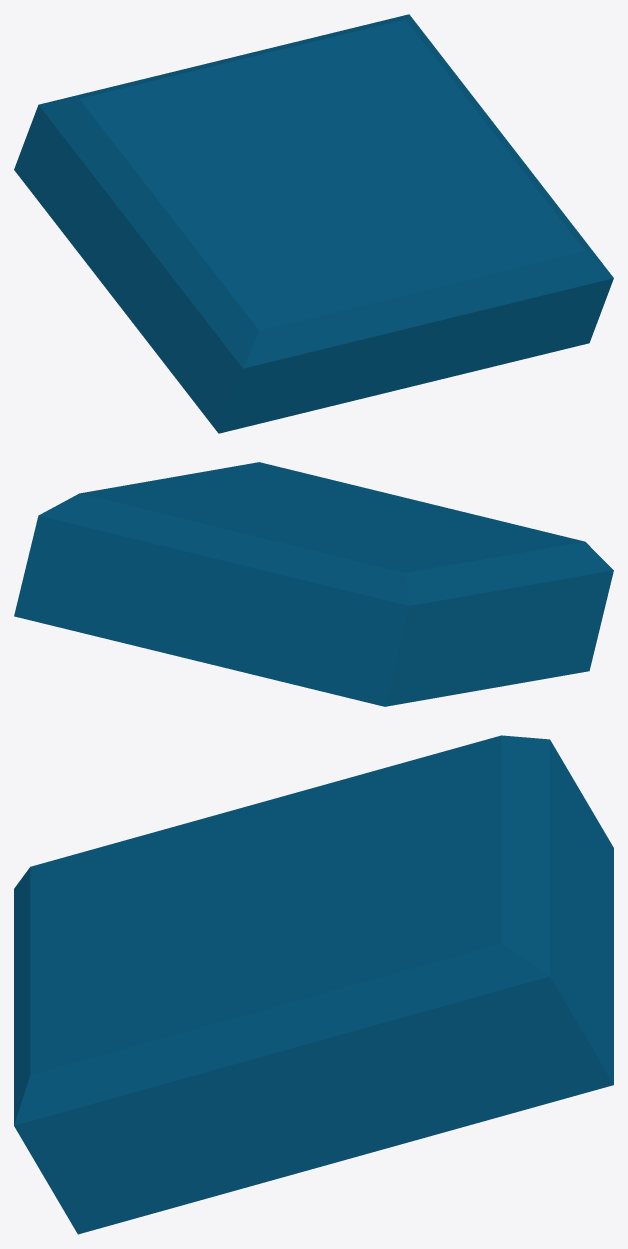
File: blue_button.glb
The picture shows the model from 3 angles, top to bottom: view 1: azimuth 30°, elevation 25°; view 2: azimuth 150°, elevation 25°; view 3: azimuth 270°, elevation 25°; orthographic projection. The views are drawn at different scales.
Parts seen in each view (by area): view 1: Blue_Button; view 2: Blue_Button; view 3: Blue_Button.
Part boxes in pixels (x1=…): Blue_Button: x1=14, y1=14, x2=613, y2=433; Blue_Button: x1=14, y1=462, x2=613, y2=706; Blue_Button: x1=14, y1=735, x2=613, y2=1234.
Size of what is drawn, in the model's own units: 0.3156 by 0.1716 by 0.3376.
Materials: 1 (1 with a texture image).
